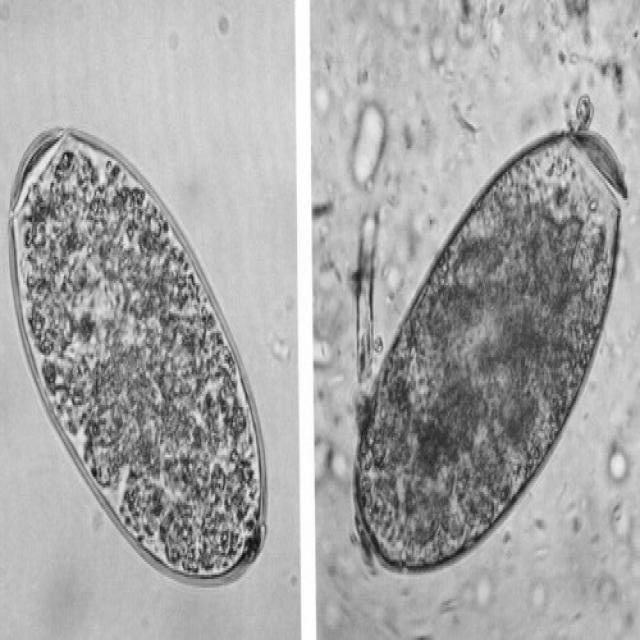Fasciola Hepatica: (346, 121, 634, 580), (3, 108, 272, 591)
